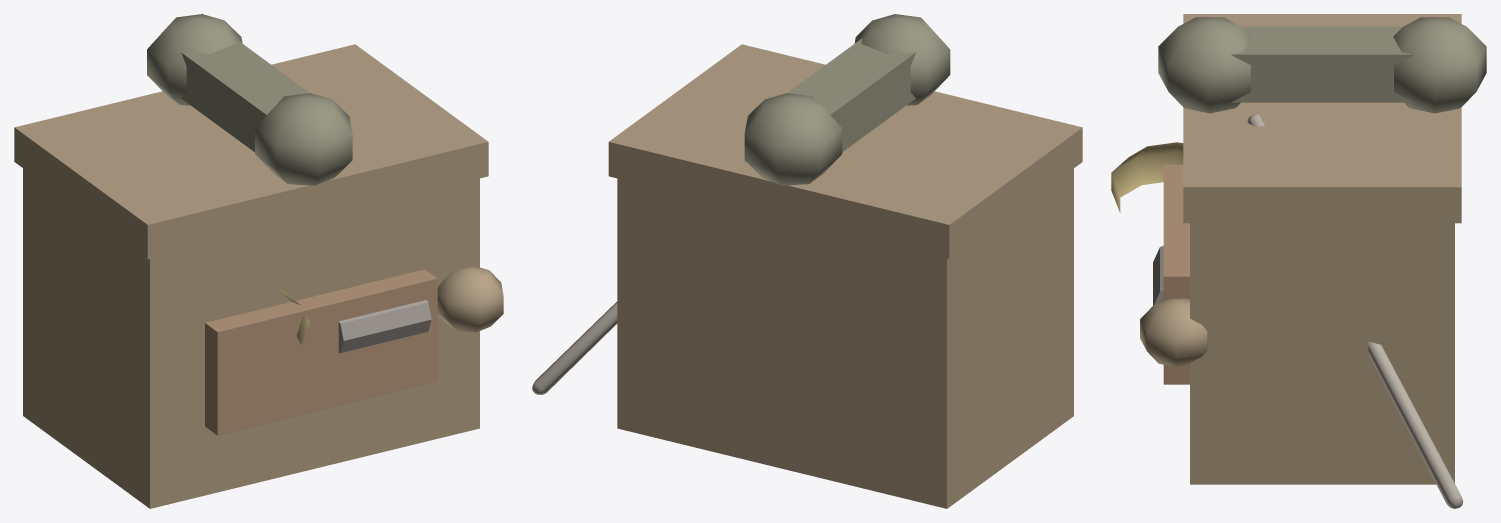
The model's file is trench-line-1917-field-telephone-1917-bcc59916__24110.glb.
3 renders of one model, left to right at view 1: azimuth 30°, elevation 25°; view 2: azimuth 150°, elevation 25°; view 3: azimuth 270°, elevation 25°, orthographic. The views are drawn at different scales.
Visible parts, largest first — view 1: field-telephone-1917; view 2: field-telephone-1917; view 3: field-telephone-1917.
Part boxes in pixels (x1=…): field-telephone-1917: x1=14, y1=14, x2=503, y2=508; field-telephone-1917: x1=532, y1=14, x2=1082, y2=508; field-telephone-1917: x1=1111, y1=14, x2=1486, y2=508.
Bounding box in the file's own units: 0.382 × 0.316 × 0.2834.
